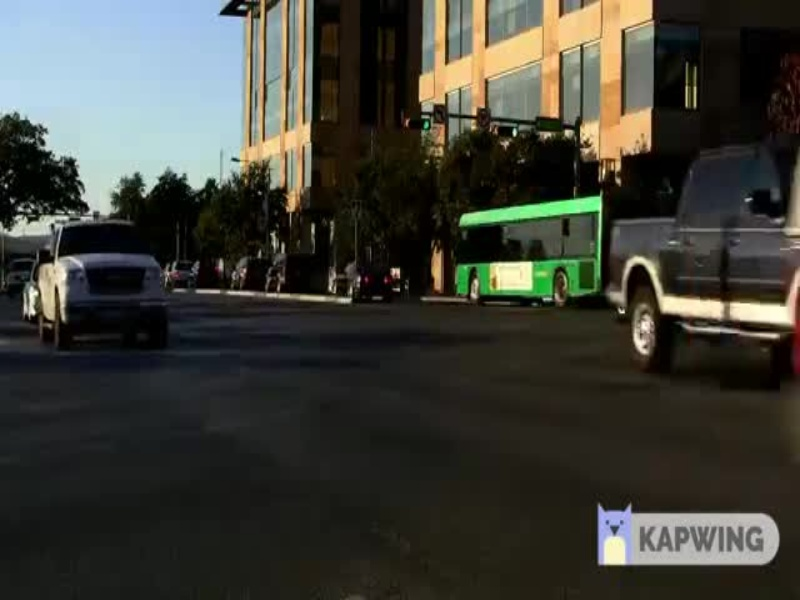bus: (440, 185, 624, 316)
car: (593, 137, 800, 377), (19, 216, 183, 348)
